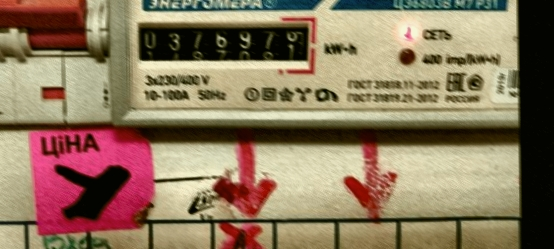0: (141, 29, 154, 49)
1: (283, 42, 295, 60)
3: (165, 31, 178, 51)
6: (212, 27, 225, 48)
7: (188, 28, 201, 49), (260, 28, 272, 50)
9: (236, 28, 248, 50)
screen: (128, 11, 319, 77)
